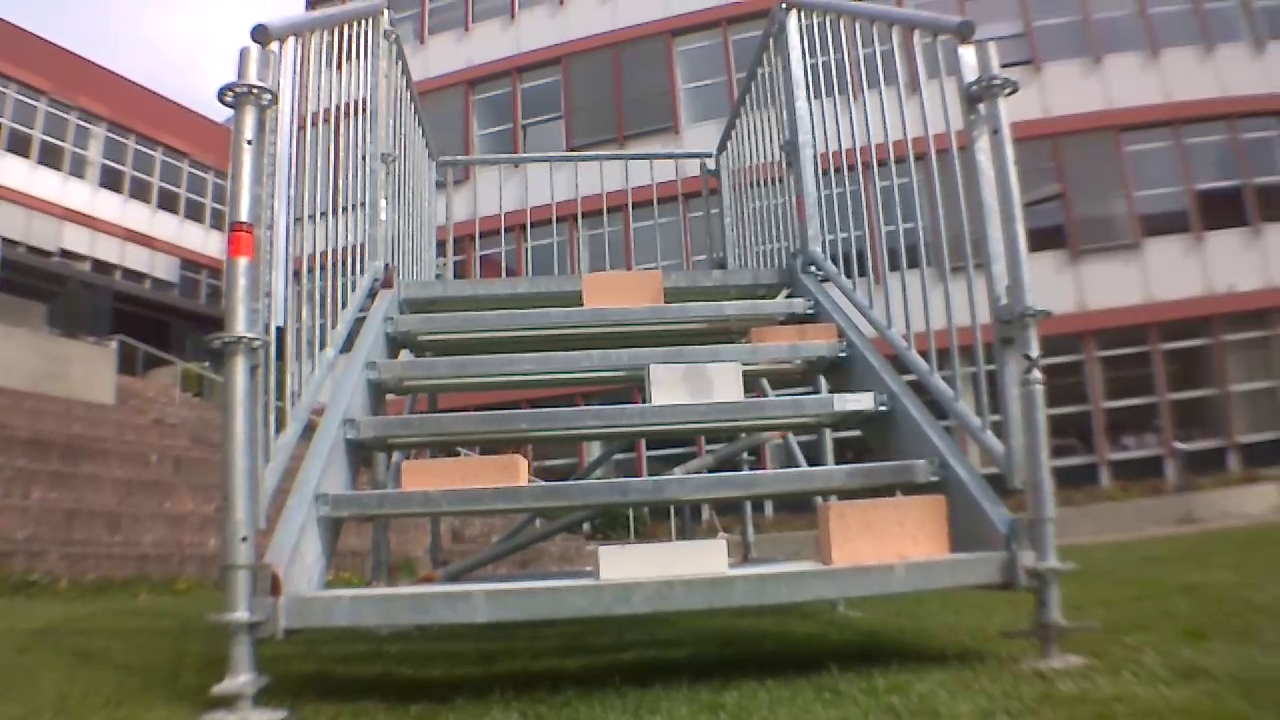brick: (823, 493, 947, 563), (595, 536, 734, 579), (401, 452, 529, 490), (640, 362, 749, 403), (579, 271, 667, 310), (751, 319, 840, 346)
edge: (290, 558, 1013, 627), (313, 467, 947, 513), (338, 390, 891, 440), (365, 334, 850, 382), (383, 298, 819, 331), (396, 268, 794, 293)
stairs: (225, 0, 1072, 655)
steps: (282, 269, 1030, 631)
